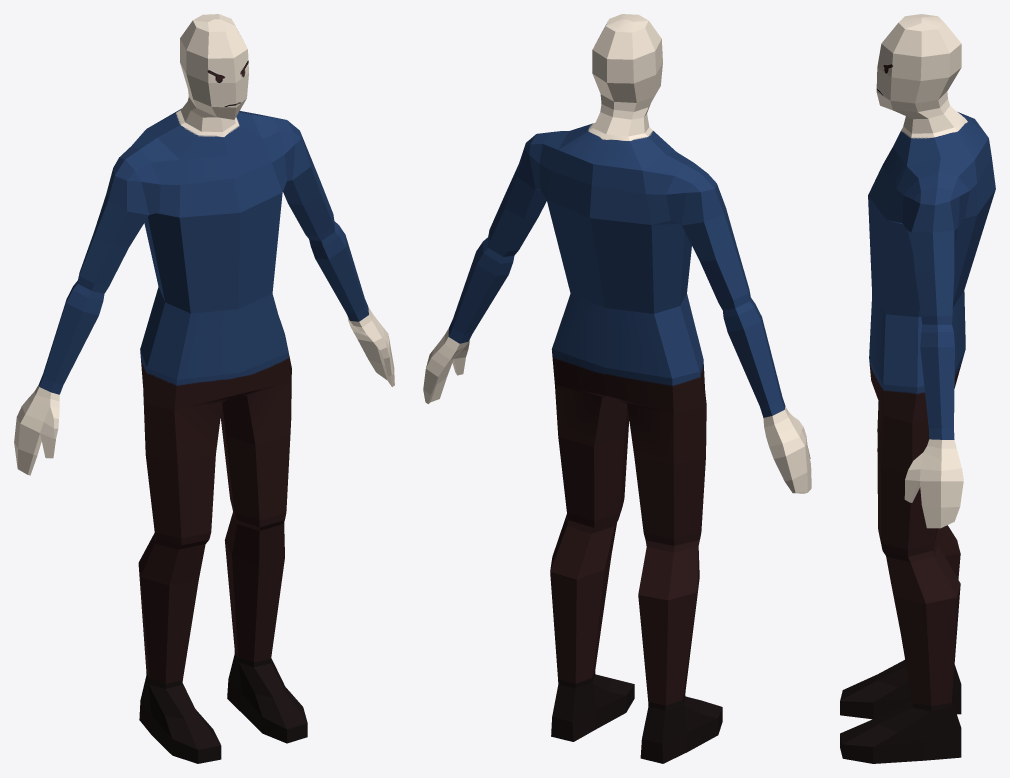
Rendered from Player_Model.fbx.
3 renders of one model, left to right at view 1: azimuth 30°, elevation 25°; view 2: azimuth 150°, elevation 25°; view 3: azimuth 270°, elevation 25°, orthographic. The views are drawn at different scales.
Visible parts, largest first — view 1: Man1:polySurface3; view 2: Man1:polySurface3; view 3: Man1:polySurface3.
Part boxes in pixels (<box>): Man1:polySurface3: <box>14,14,394,763</box>; Man1:polySurface3: <box>423,14,811,763</box>; Man1:polySurface3: <box>840,14,995,763</box>.
Size of the model in its own units: 2.95 by 5.31 by 1.05.
